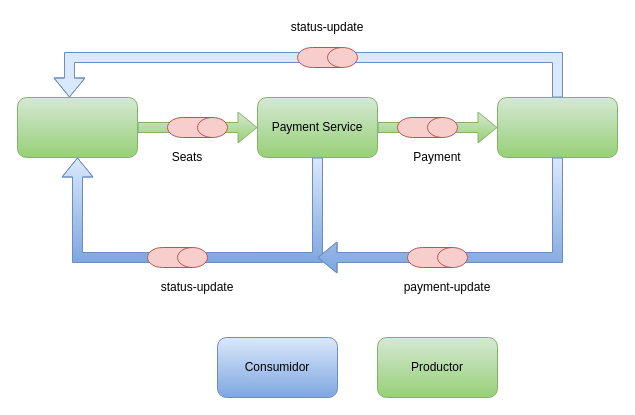
Image size: 635x415. Some labels were removed from this diagram. Each missing label, with the box of its shape:
Allocate Service: (496, 96, 618, 158)
Order Service: (16, 96, 138, 158)
